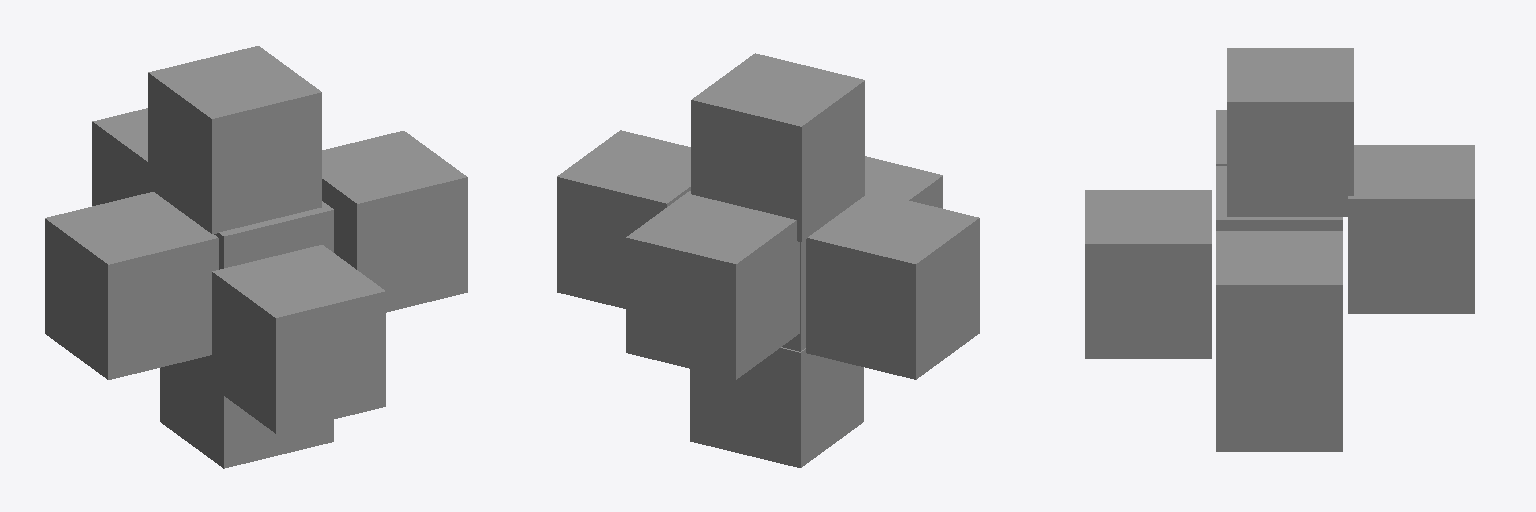
Rendered from hueta_2.obj.
3 views of the same model, side by side, from view 1: azimuth 30°, elevation 25°; view 2: azimuth 150°, elevation 25°; view 3: azimuth 270°, elevation 25° (orthographic).
Parts seen in each view (by area): view 1: Cube, Cube.003, Cube.005, Cube.004, Cube.006, Cube.001, Cube.002; view 2: Cube.005, Cube.001, Cube.003, Cube.006, Cube.004, Cube, Cube.002; view 3: Cube.004, Cube, Cube.003, Cube.001, Cube.006, Cube.002, Cube.005.
Part boxes in pixels (bbox=[...]): Cube: bbox=[212, 245, 385, 433]; Cube.003: bbox=[148, 46, 321, 233]; Cube.005: bbox=[45, 192, 218, 379]; Cube.004: bbox=[322, 131, 467, 312]; Cube.006: bbox=[160, 355, 333, 468]; Cube.001: bbox=[92, 108, 152, 205]; Cube.002: bbox=[214, 201, 333, 269]; Cube.005: bbox=[806, 191, 979, 379]; Cube.001: bbox=[626, 191, 799, 379]; Cube.003: bbox=[691, 53, 864, 241]; Cube.006: bbox=[690, 347, 863, 467]; Cube.004: bbox=[557, 130, 690, 308]; Cube: bbox=[865, 156, 942, 208]; Cube.002: bbox=[782, 240, 805, 351]; Cube.004: bbox=[1216, 231, 1342, 400]; Cube: bbox=[1085, 190, 1211, 358]; Cube.003: bbox=[1227, 48, 1353, 216]; Cube.001: bbox=[1348, 145, 1474, 313]; Cube.006: bbox=[1216, 401, 1342, 451]; Cube.002: bbox=[1216, 166, 1342, 230]; Cube.005: bbox=[1216, 110, 1226, 165].
Bounding box in the file's own units: 6.51 × 6.01 × 6.12.